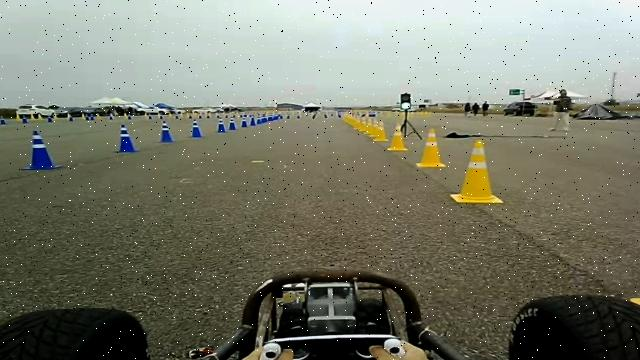blue cone: (21, 130, 62, 170), (114, 123, 139, 152), (156, 120, 175, 143), (190, 120, 202, 138), (215, 116, 226, 133), (228, 115, 236, 130), (240, 116, 248, 128), (249, 115, 255, 126)
yellow cone: (449, 139, 504, 204), (415, 127, 446, 168), (386, 123, 408, 151), (373, 118, 388, 142), (363, 116, 376, 135), (357, 115, 367, 132), (628, 296, 640, 307)
